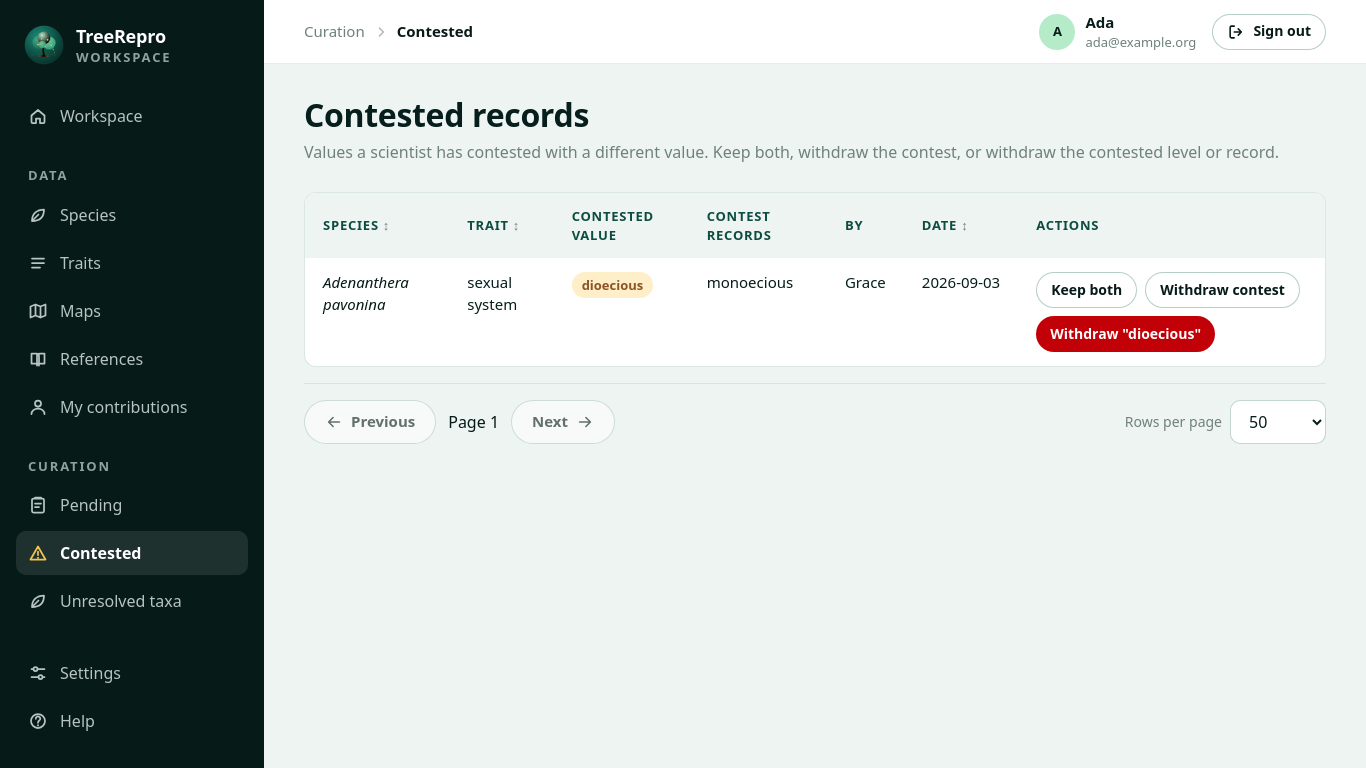
RFC-65 R10 DisputedPage is the contested queue › Keep both resolves the contest after confirmation
Click the button "Keep both". click: x=1087, y=290
box: [1036,272,1137,308]
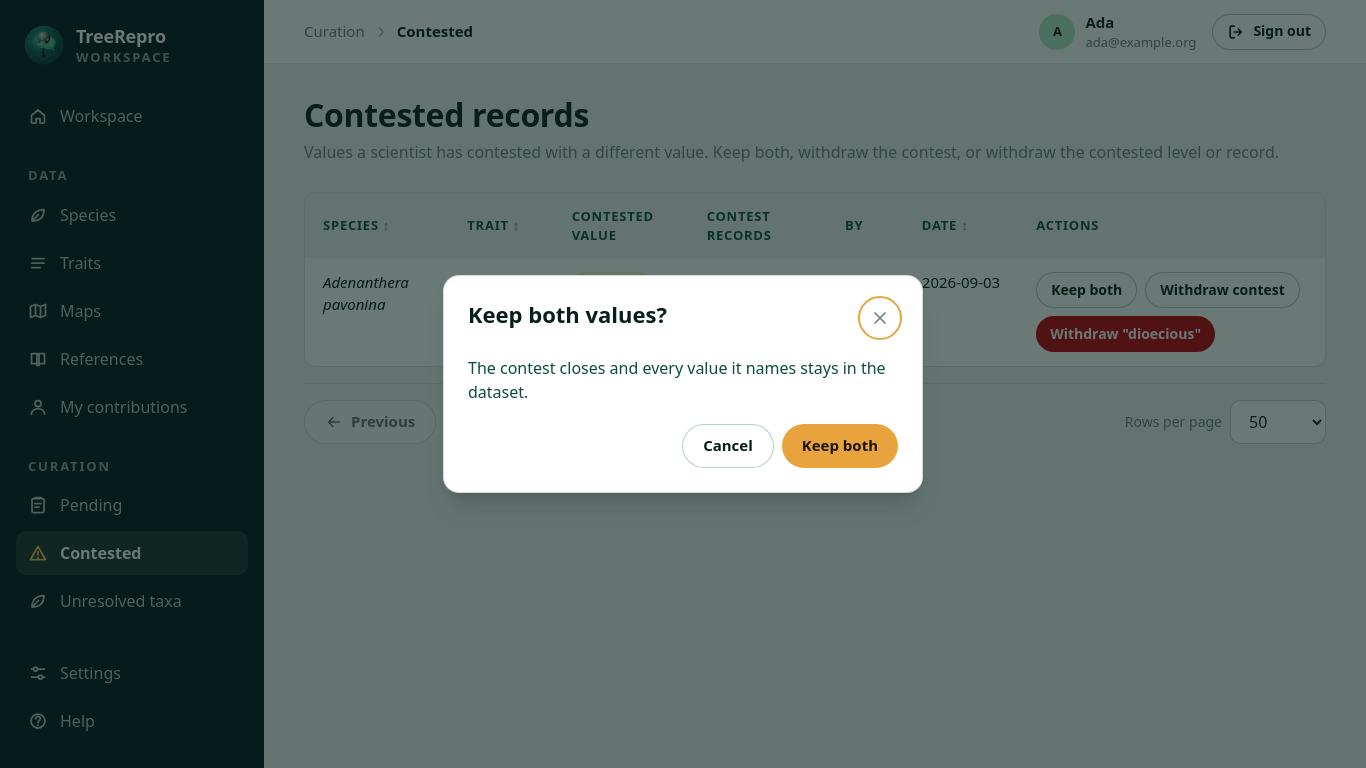
Click the button "Keep both". click: x=840, y=446
box: [782,424,898,468]
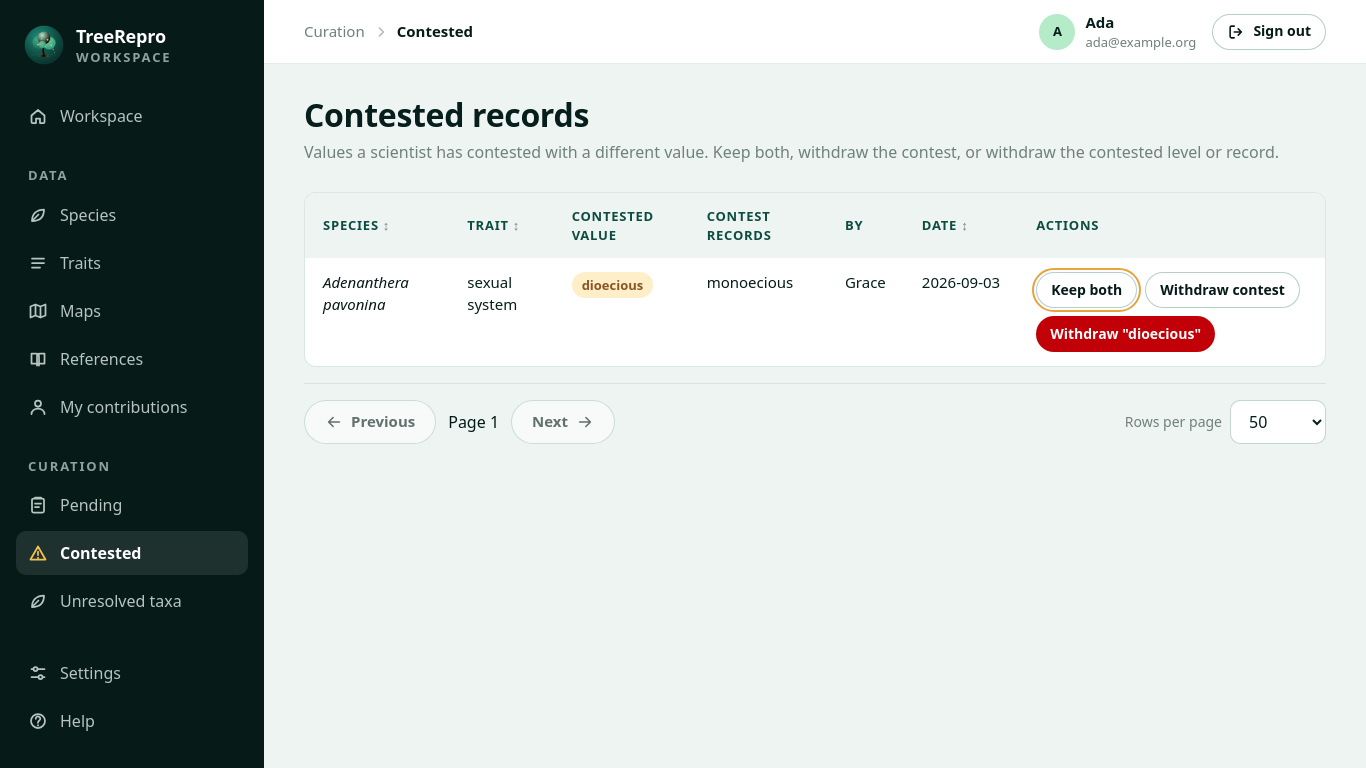
expect the dialog is gone: met
